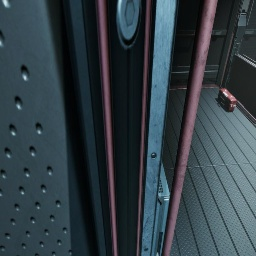FirstAidBox ,: (218, 88, 237, 111)
